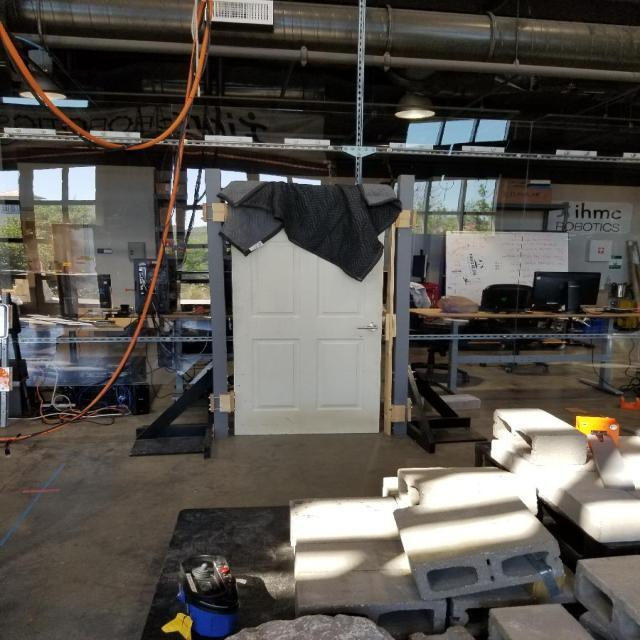door: (228, 186, 382, 440), (356, 321, 378, 333)
